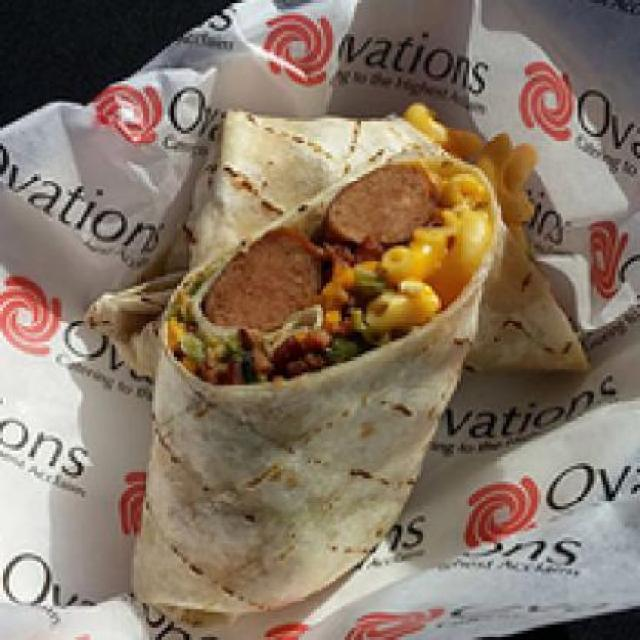hot dog: (202, 156, 429, 330)
macaroni and cheese: (376, 96, 538, 327)
